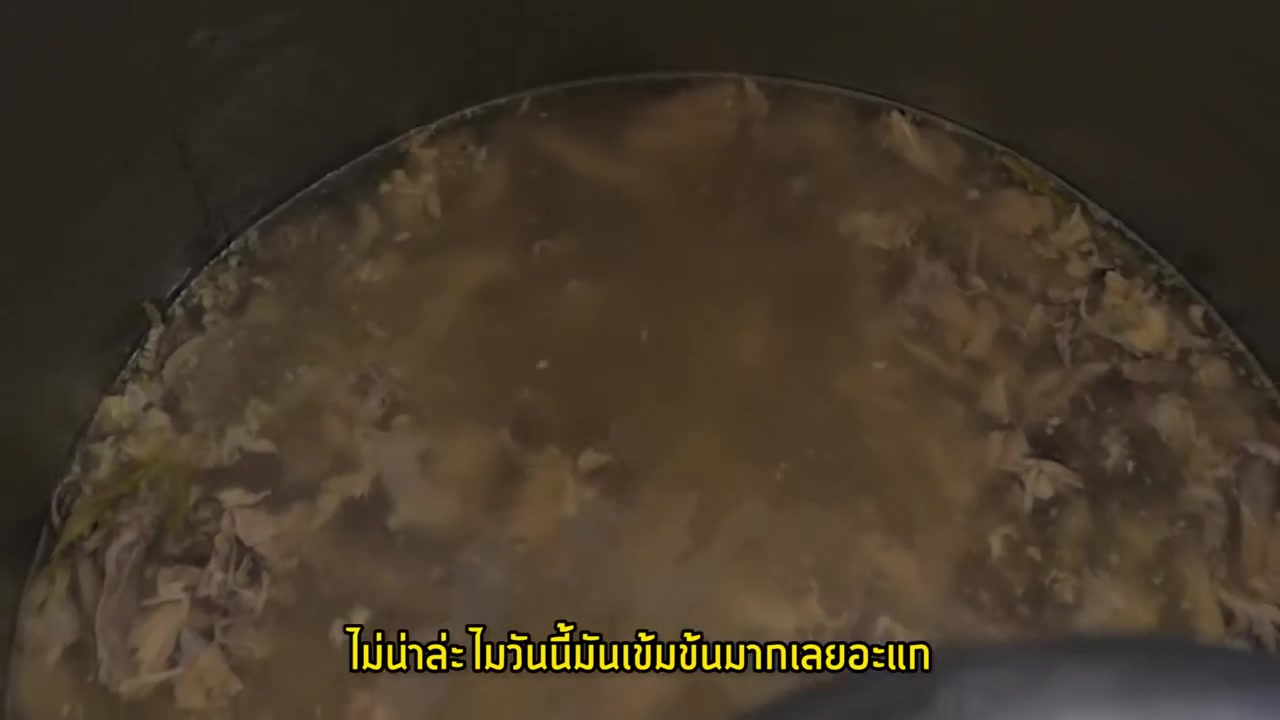text-label: (339, 619, 939, 673)
